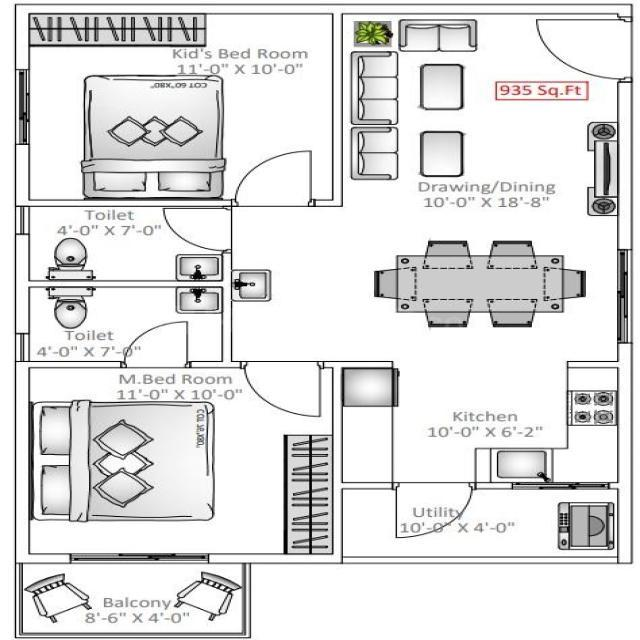Balcony-Sitout: (12, 563, 255, 639)
Bedroom: (14, 5, 347, 205)
Bedroom with Toilet: (13, 279, 345, 562)
Dining: (375, 233, 594, 332)
Kitchen: (332, 363, 635, 487)
Living: (336, 2, 640, 206)
Toilet: (12, 279, 232, 370), (11, 200, 231, 287)
Utility: (334, 482, 635, 567)
